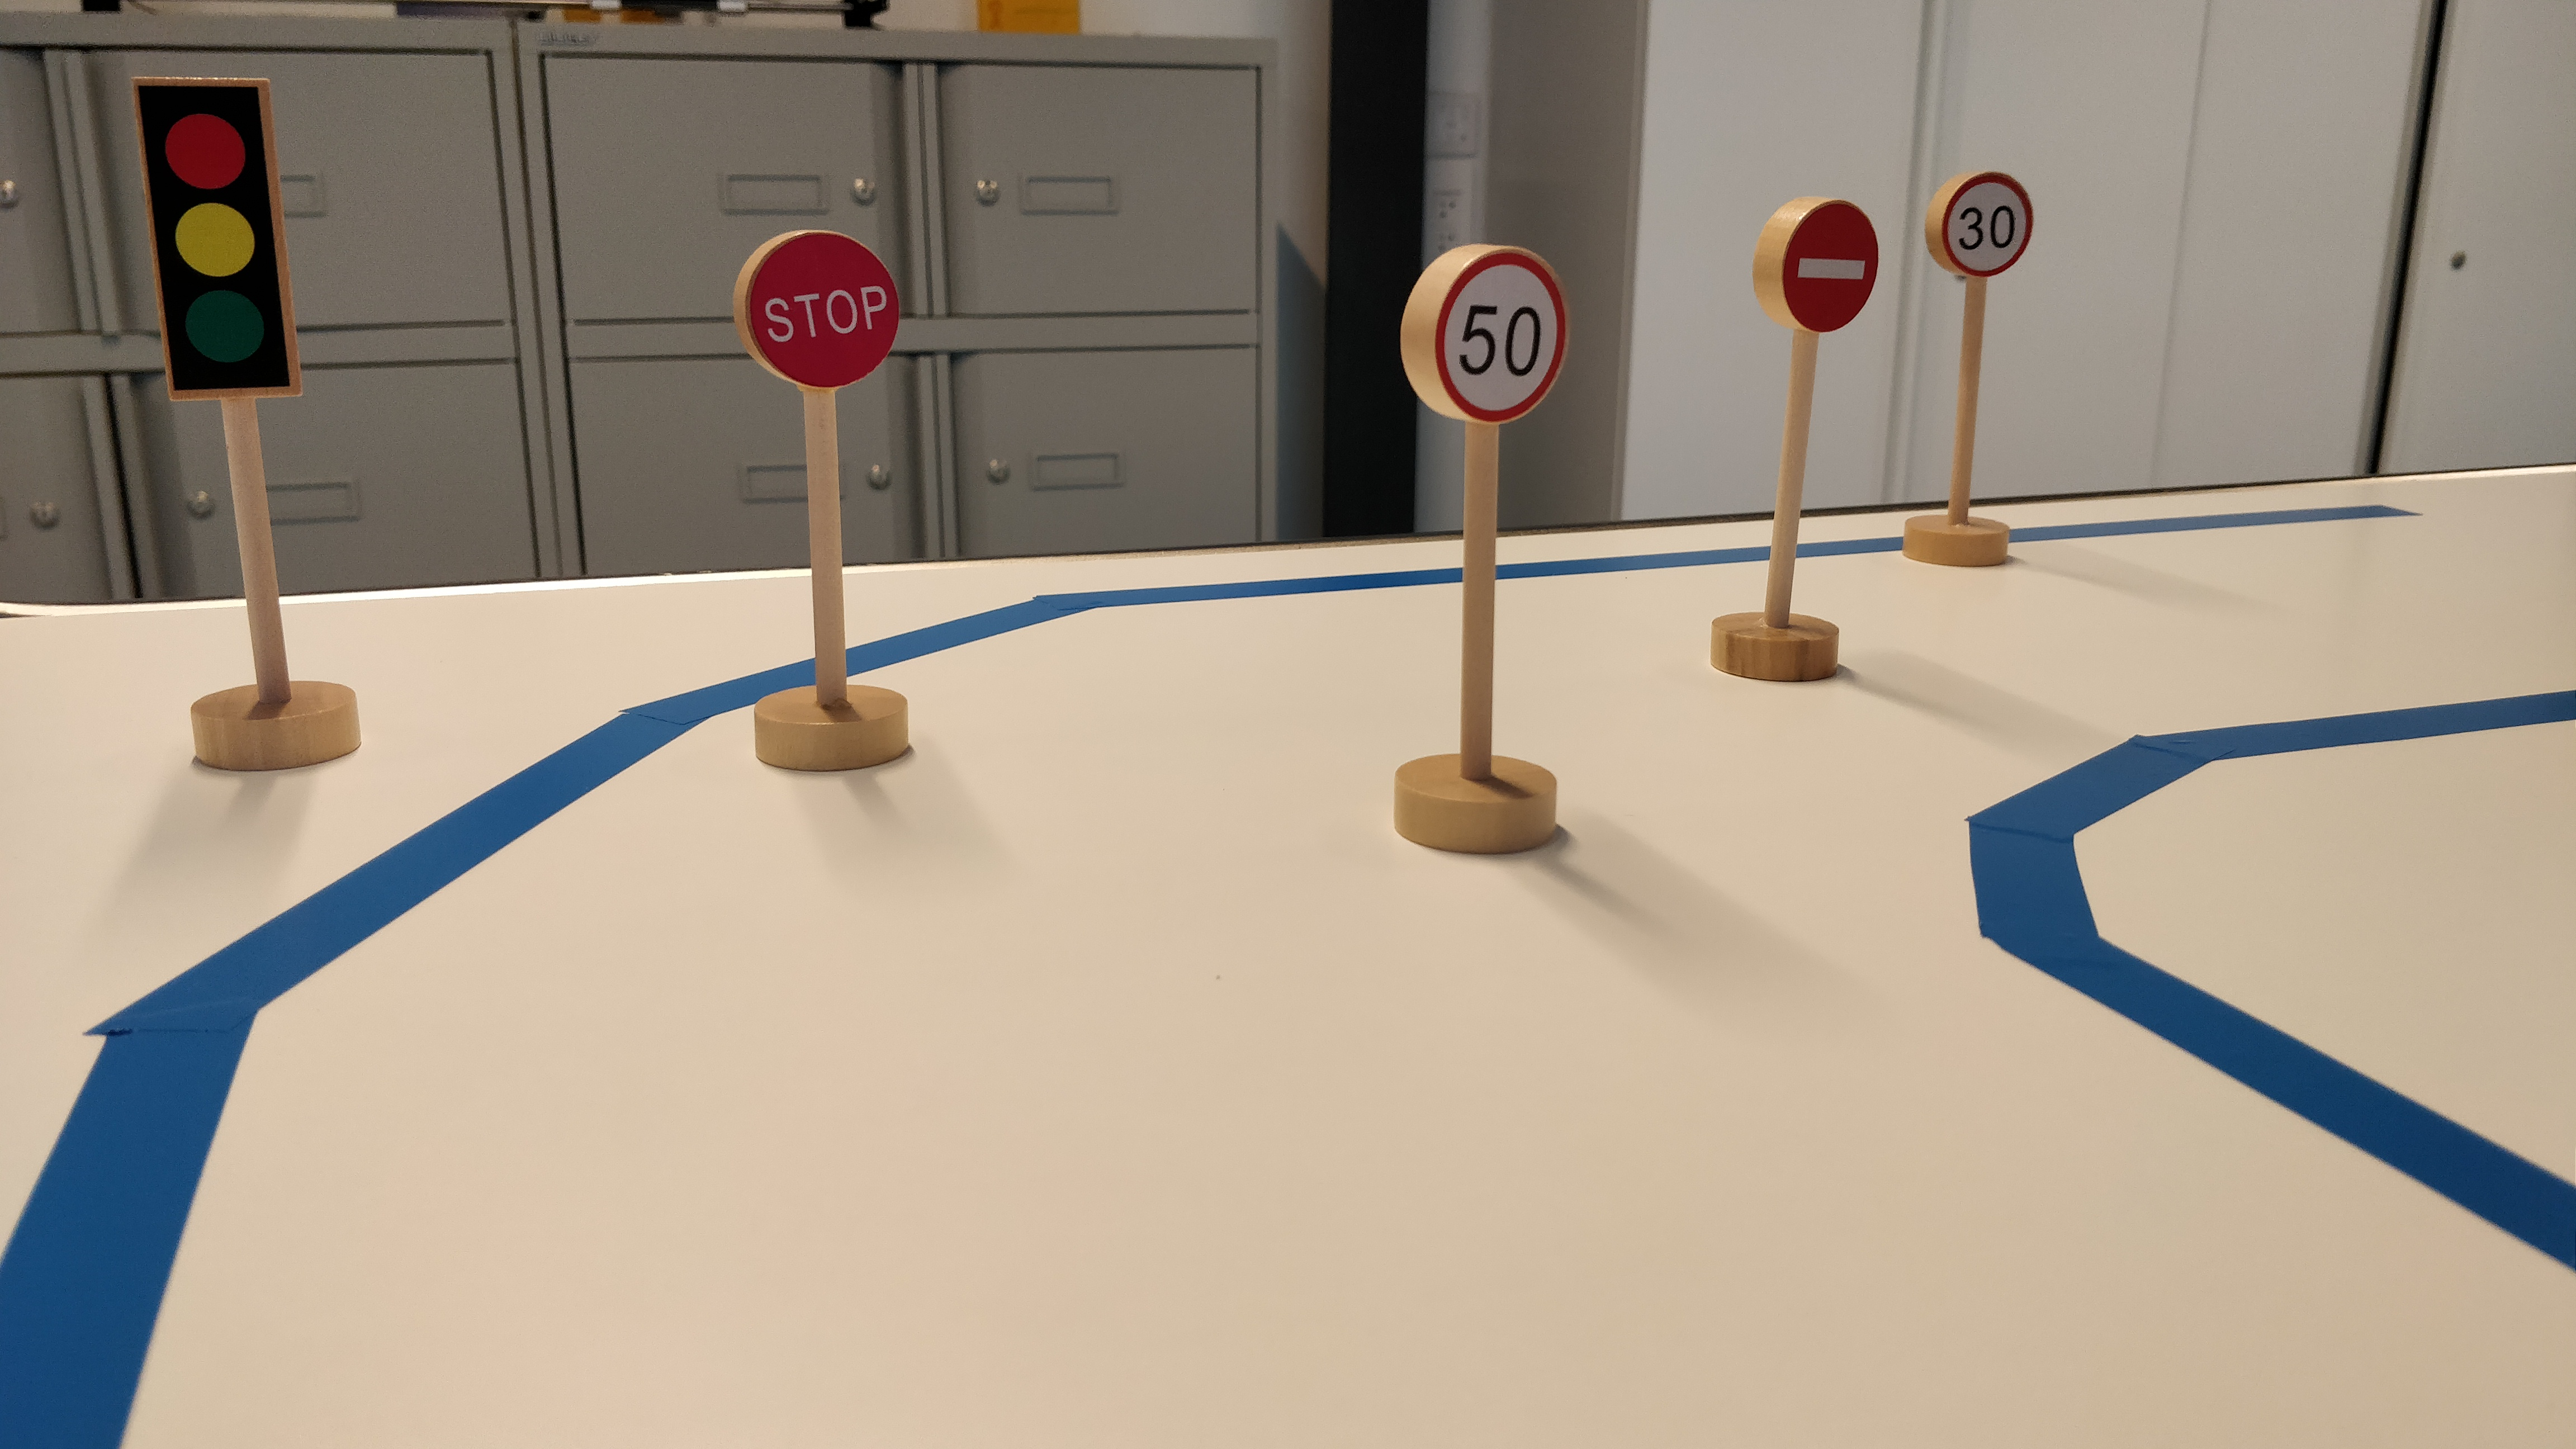Prohibition Sign: (1751, 190, 1879, 339)
Speed Limit 30: (1919, 169, 2038, 282)
Speed Limit 50: (1398, 239, 1572, 432)
Stop Sign: (728, 222, 901, 400)
Traffic Light: (127, 71, 305, 404)
